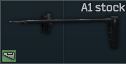MP7A1 stock: (0, 0, 126, 64)
